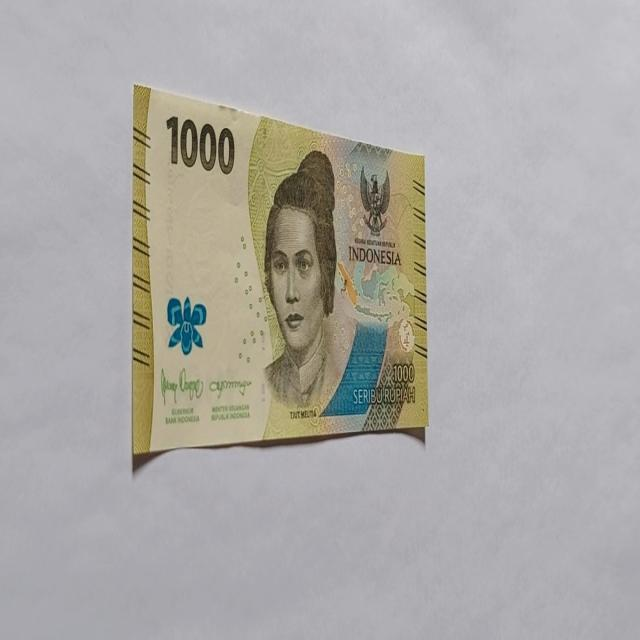seribu rupiah kertas: (130, 81, 428, 466)
